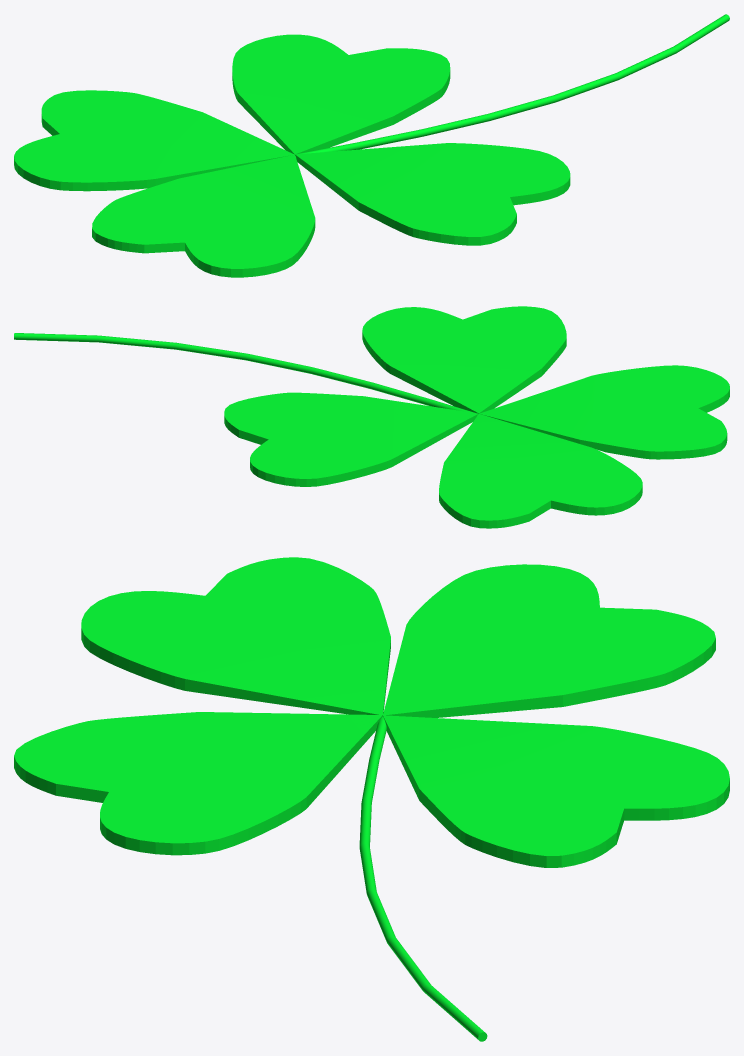
3 views of the same model, one above another, from view 1: azimuth 30°, elevation 25°; view 2: azimuth 150°, elevation 25°; view 3: azimuth 270°, elevation 25° (orthographic). The views are drawn at different scales.
Parts seen in each view (by area): view 1: Line002, Line003; view 2: Line002, Line003; view 3: Line002, Line003.
Boxes of the visible parts, left/top/right/bottom form: Line002: left=14, top=34, right=570, bottom=277; Line003: left=295, top=14, right=729, bottom=156; Line002: left=224, top=306, right=729, bottom=528; Line003: left=14, top=333, right=477, bottom=415; Line002: left=14, top=557, right=729, bottom=867; Line003: left=359, top=716, right=487, bottom=1041.
Bounding box in the file's own units: 460654 × 5440 × 294322.
